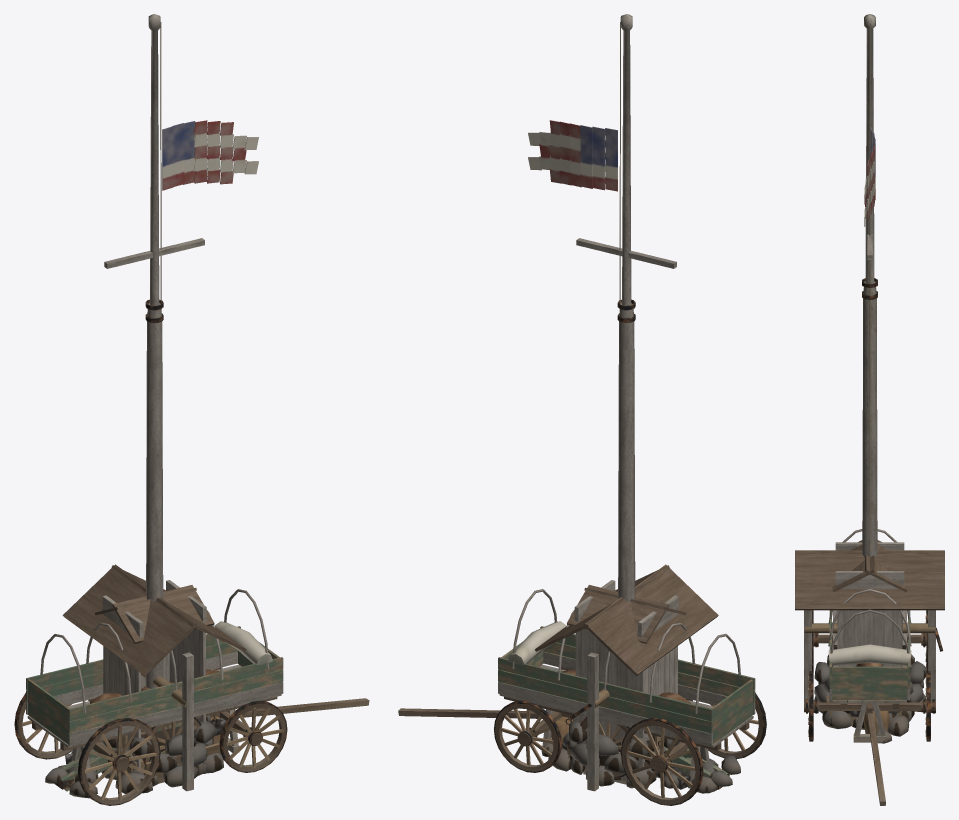
File: fort.glb
The picture shows the model from 3 angles, left to right: view 1: azimuth 30°, elevation 25°; view 2: azimuth 150°, elevation 25°; view 3: azimuth 270°, elevation 25°; orthographic projection. The views are drawn at different scales.
Visible parts, largest first — view 1: army_wagon, flagpole, well, sentry_box, rubble_pile, cannon, saddle_rack; view 2: army_wagon, flagpole, well, sentry_box, rubble_pile, cannon; view 3: well, army_wagon, flagpole, sentry_box, rubble_pile, saddle_rack, rifle_crates.
Boxes of the visible parts, bbox=[...] form: army_wagon: bbox=[14, 589, 369, 805]; flagpole: bbox=[104, 14, 258, 783]; well: bbox=[62, 564, 246, 791]; sentry_box: bbox=[95, 580, 214, 767]; rubble_pile: bbox=[45, 718, 230, 798]; cannon: bbox=[54, 717, 200, 791]; saddle_rack: bbox=[71, 669, 239, 768]; army_wagon: bbox=[398, 589, 766, 805]; flagpole: bbox=[528, 14, 676, 784]; well: bbox=[535, 564, 718, 791]; sentry_box: bbox=[567, 580, 686, 781]; rubble_pile: bbox=[542, 743, 740, 793]; cannon: bbox=[577, 717, 729, 791]; well: bbox=[795, 550, 944, 729]; army_wagon: bbox=[804, 529, 935, 805]; flagpole: bbox=[862, 14, 877, 557]; sentry_box: bbox=[832, 540, 907, 666]; rubble_pile: bbox=[822, 711, 909, 743]; saddle_rack: bbox=[853, 662, 886, 742]; rifle_crates: bbox=[826, 695, 901, 733].
Bounding box in the file's own units: 5.38 × 11.82 × 2.3.
Materials: 1 (1 with a texture image).
